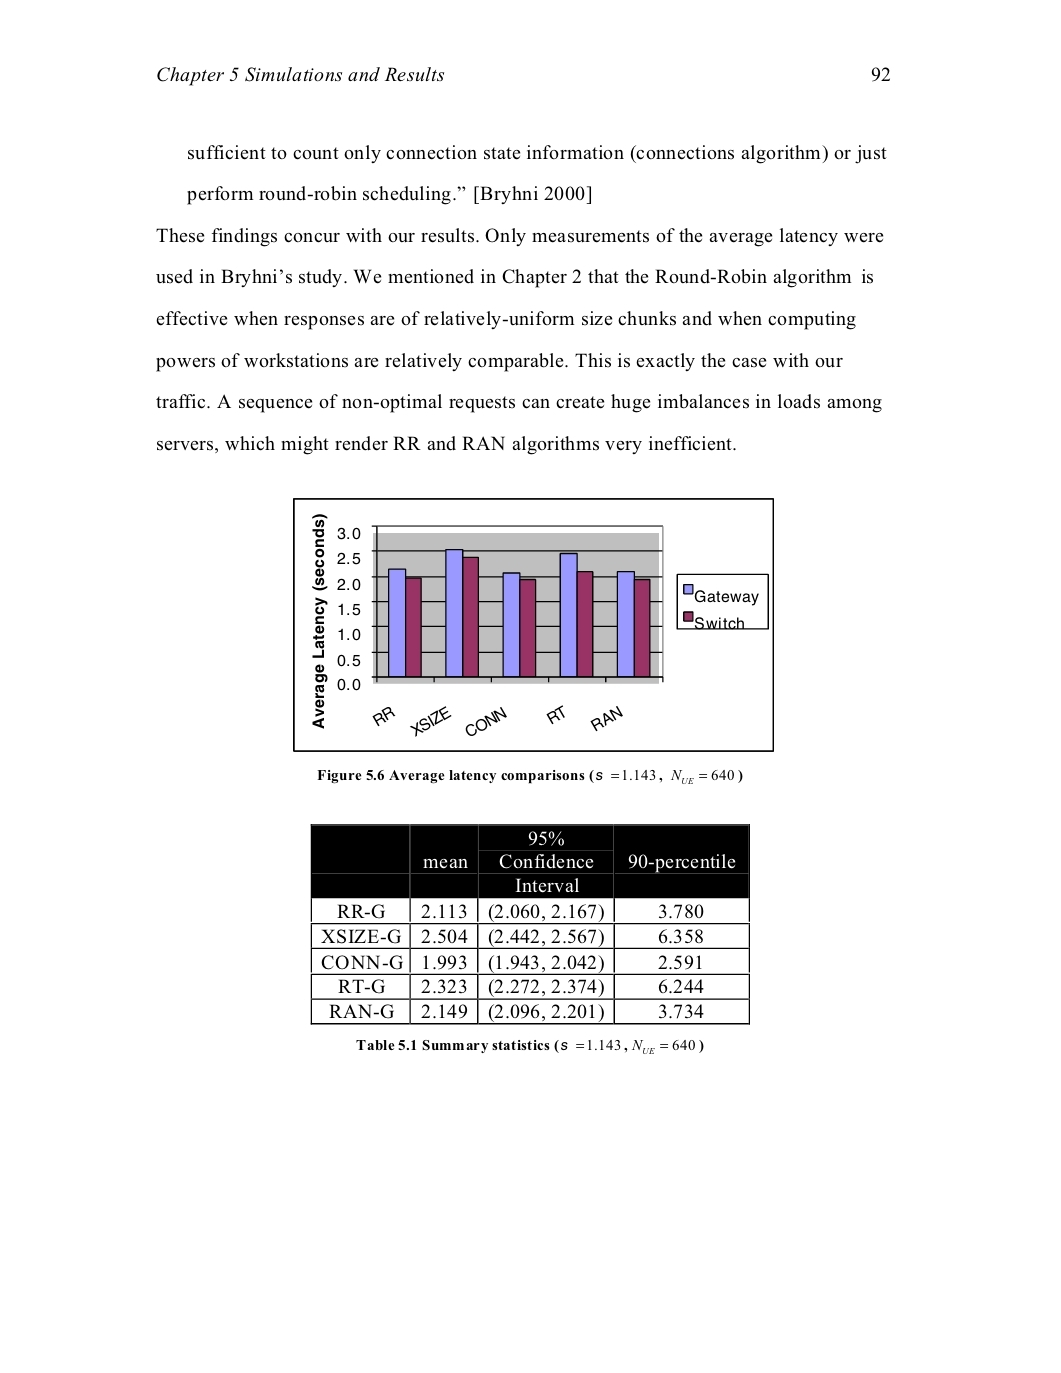Table: (310, 822, 749, 1025)
figure: (293, 497, 773, 752)
